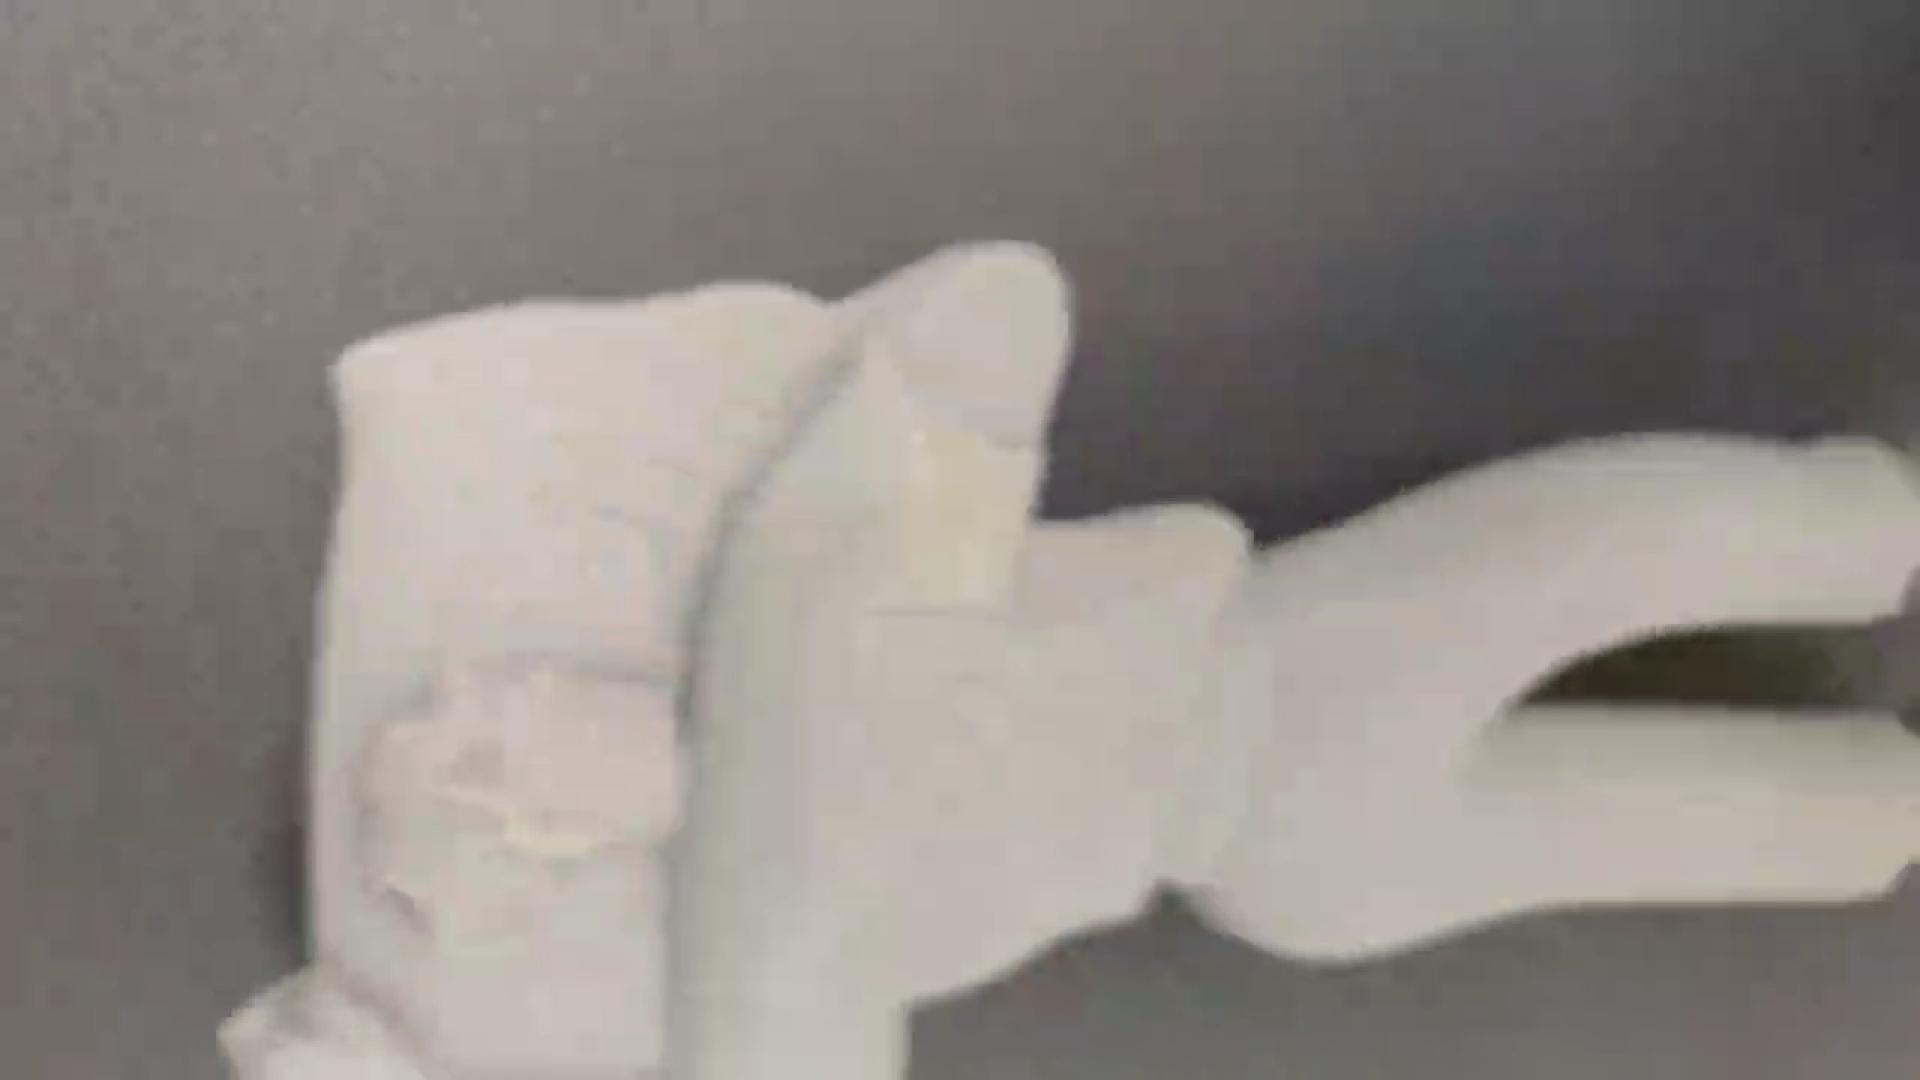Bad-style: (214, 222, 1920, 1080)
